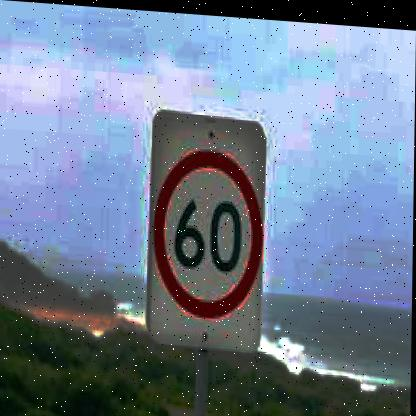Speed Limit -60-: (148, 138, 266, 320)
